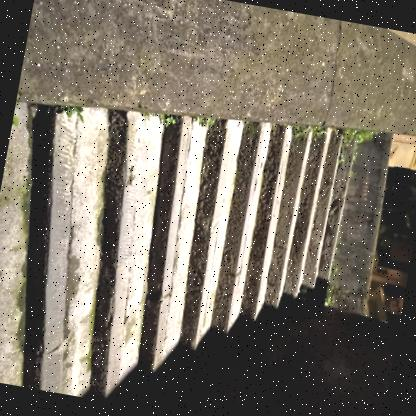stair: (0, 53, 411, 416)
